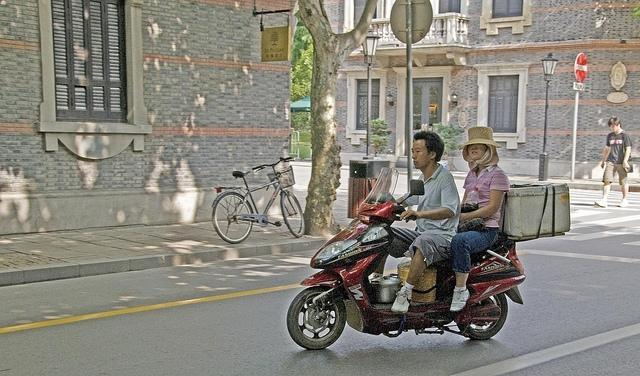bicycle: (212, 156, 304, 243)
motorcycle: (288, 168, 528, 348)
